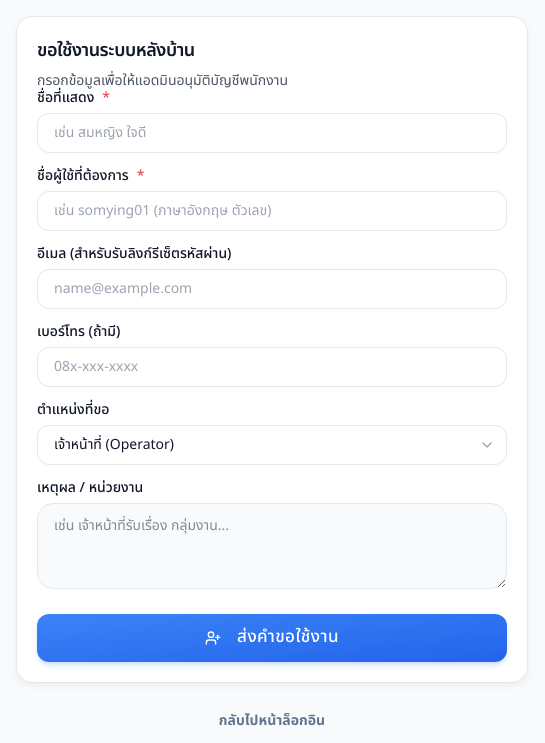
Request access form › submits the request and shows the waiting message
In the field with placeholder "เช่น สมหญิง ใจดี": coordinates (272, 133) [37,113,507,153], type "สมหญิง ใจดี"
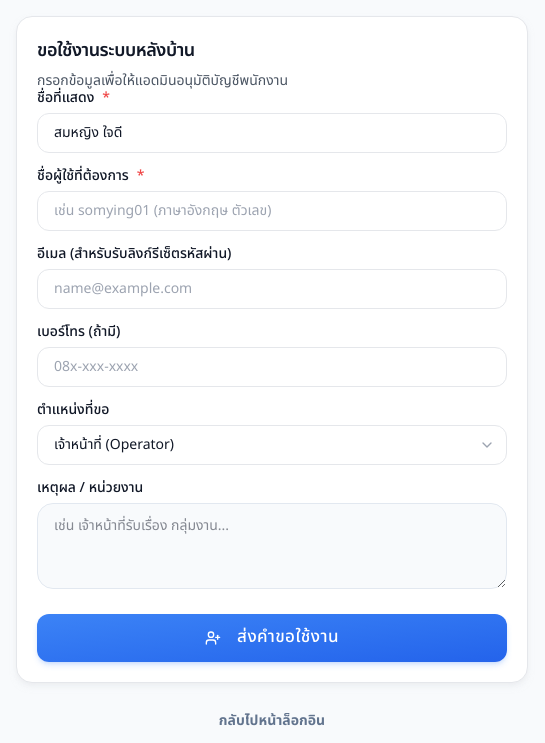
In the field with placeholder "เช่น somying01 (ภาษาอังกฤษ ตัวเลข)": coordinates (272, 211) [37,191,507,231], type "somying01"
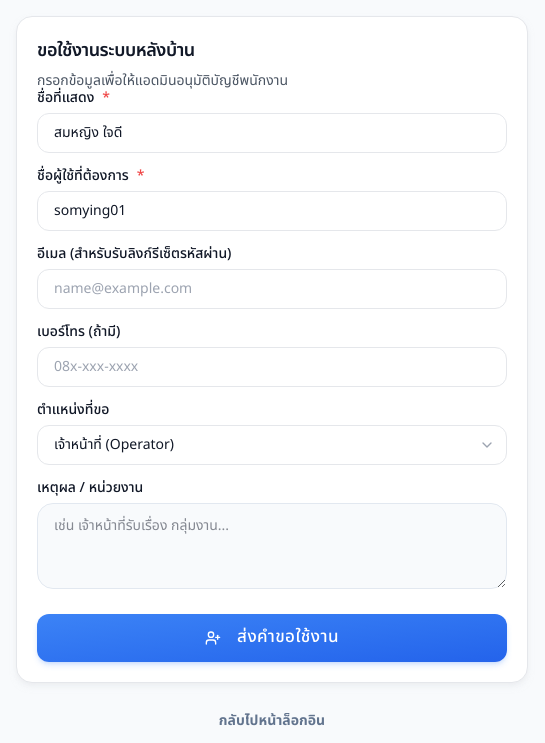
Click the button "ส่งคำขอใช้งาน": coordinates (272, 638) [37,614,507,662]
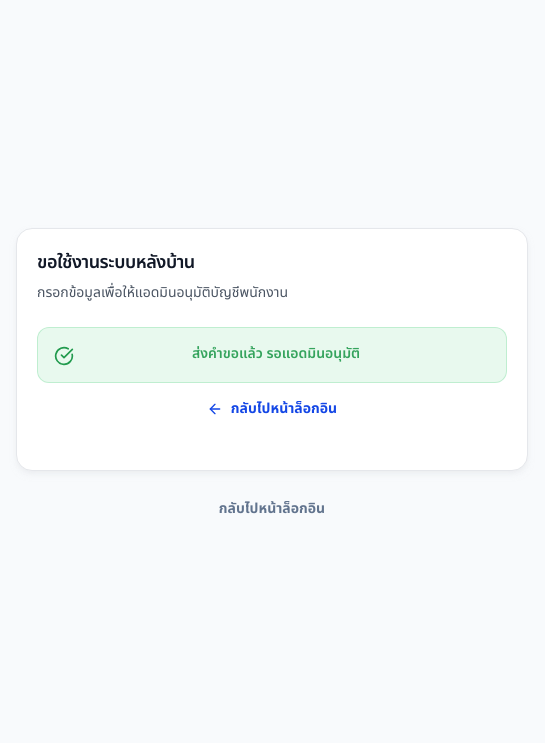
Result: the text "ส่งคำขอแล้ว รอแอดมินอนุมัติ" is shown at [192,343,360,364]
